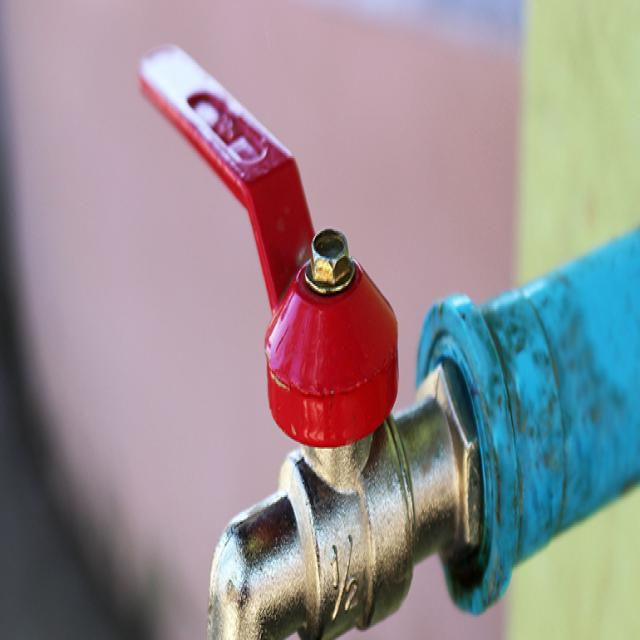Lever Handle Valve Threaded: (136, 44, 487, 640)
